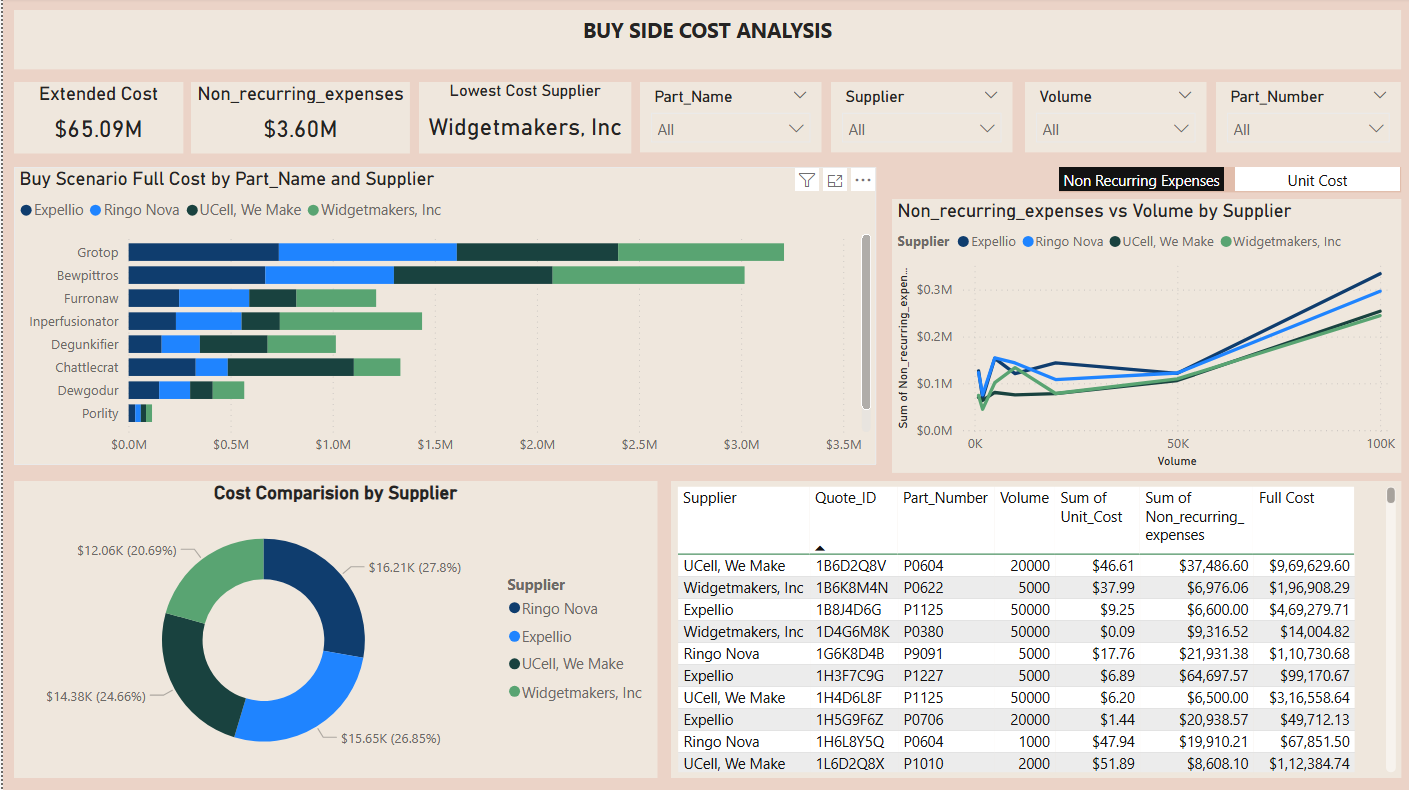

What the dashboard file says about the page in this screenshot:
{"tool":"powerbi","page":{"name":"Buy Side Cost Analysis","canvas":[1280,720],"ordinal":0},"visuals":[{"type":"tableEx","fields":{"Values":["Supplier (Quotes).Supplier","Supplier (Quotes).Quote_ID","Supplier (Quotes).Part_Number","Supplier (Quotes).Volume","Sum(Supplier (Quotes).Unit_Cost)","Sum(Supplier (Quotes).Non_recurring_expenses)","Supplier (Quotes).Full Cost"]},"box":[607.3,439.1,663.6,270],"z":0},{"type":"slicer","fields":{"Values":["Supplier (Quotes).Part_Number"]},"box":[1102.7,76.4,168.2,63.6],"z":1000},{"type":"slicer","fields":{"Values":["Supplier (Quotes).Volume"]},"box":[929.1,76.4,164.5,63.6],"z":4000},{"type":"card","title":"Lowest Cost Supplier","fields":{"Values":["Min(Supplier (Quotes).Supplier)"]},"box":[378.2,76.4,192.7,64.5],"z":5000},{"type":"textbox","box":[10,10.9,1260.9,53.6],"z":7001},{"type":"barChart","fields":{"Series":["Supplier (Quotes).Supplier"],"Y":["Scenario Volume.Buy Scenario Full Cost"],"Category":["Part_Number (Product_Dimension).Part_Name"]},"box":[10,439.1,585.5,270],"z":7002},{"type":"donutChart","title":"Cost Comparision by Supplier","fields":{"Category":["Supplier Yield.Supplier"],"Y":["Scenario Volume.Buy Scenario Full Cost"]},"box":[447.3,182.7,352.7,249.1],"z":7003},{"type":"lineChart","title":" Non_recurring_expenses vs Volume by Supplier","fields":{"Category":["Supplier (Quotes).Volume"],"Series":["Supplier (Quotes).Supplier"],"Y":["Sum(Supplier (Quotes).Non_recurring_expenses)"]},"box":[808.2,182.7,462.7,249.1],"z":7004},{"type":"bookmarkNavigator","box":[960,153.6,310.9,22.7],"z":7005},{"type":"card","title":"Extended Cost","fields":{"Values":["Sum(Supplier (Quotes).Extended Cost)"]},"box":[10,76.4,153.6,64.5],"z":7006},{"type":"card","title":"Non_recurring_expenses","fields":{"Values":["Sum(Supplier (Quotes).Non_recurring_expenses)"]},"box":[170.9,76.4,199.1,64.5],"z":7007},{"type":"slicer","fields":{"Values":["Supplier Yield.Supplier"]},"box":[752.7,76.4,164.5,63.6],"z":7008},{"type":"slicer","fields":{"Values":["Part_Number (Product_Dimension).Part_Name"]},"box":[579.1,76.4,164.5,63.6],"z":7009}]}

Visuals, with their boxes in screenshot pixels (x1, y1, x2, y2), scaled from the page's 1280x720 canvas onto the 1409x790 screenshot:
tableEx - Supplier (Quotes).Supplier x Supplier (Quotes).Quote_ID: bbox=(669, 482, 1399, 778)
slicer - Supplier (Quotes).Part_Number: bbox=(1214, 84, 1399, 154)
slicer - Supplier (Quotes).Volume: bbox=(1023, 84, 1204, 154)
"Lowest Cost Supplier" card: bbox=(416, 84, 628, 155)
textbox: bbox=(11, 12, 1399, 71)
barChart - Supplier (Quotes).Supplier x Scenario Volume.Buy Scenario Full Cost: bbox=(11, 482, 656, 778)
"Cost Comparision by Supplier" donutChart: bbox=(492, 200, 881, 474)
" Non_recurring_expenses vs Volume by Supplier" lineChart: bbox=(890, 200, 1399, 474)
bookmarkNavigator: bbox=(1057, 169, 1399, 193)
"Extended Cost" card: bbox=(11, 84, 180, 155)
"Non_recurring_expenses" card: bbox=(188, 84, 407, 155)
slicer - Supplier Yield.Supplier: bbox=(829, 84, 1010, 154)
slicer - Part_Number (Product_Dimension).Part_Name: bbox=(637, 84, 819, 154)
